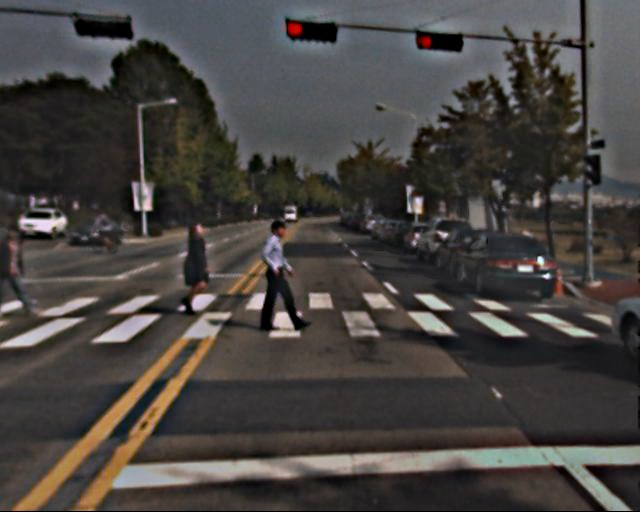person: (255, 220, 304, 335), (175, 221, 217, 312)
